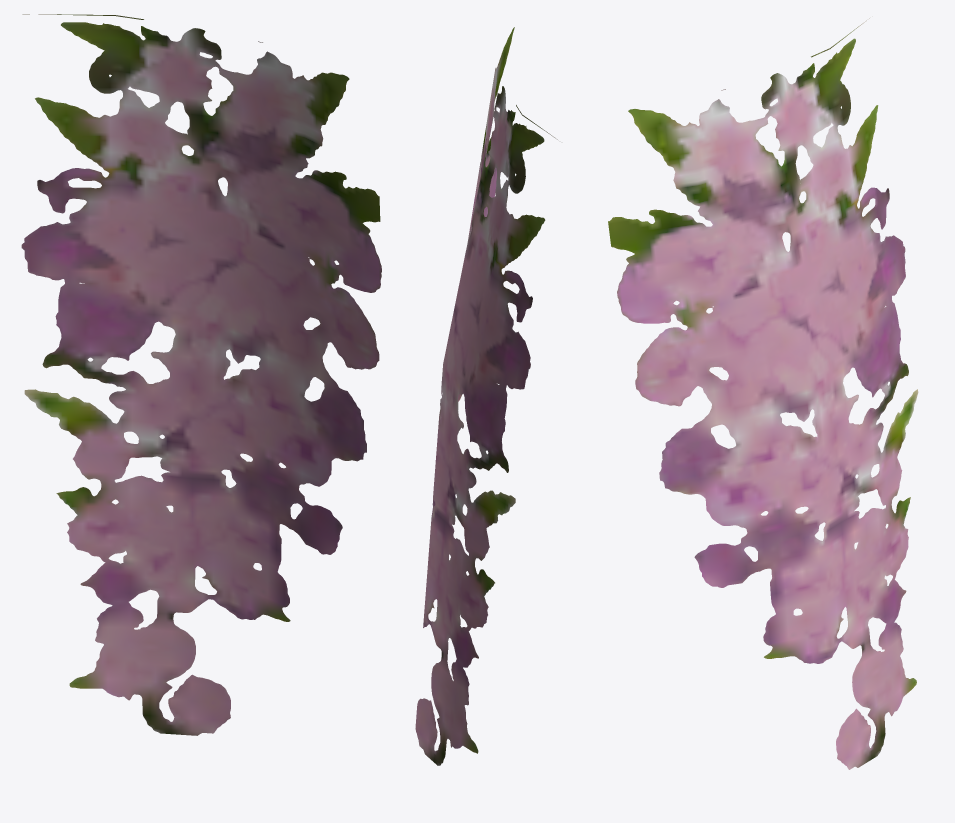
Rendered from liemo_plant_10 (12).fbx.
The picture shows the model from 3 angles, left to right: view 1: azimuth 30°, elevation 25°; view 2: azimuth 150°, elevation 25°; view 3: azimuth 270°, elevation 25°; orthographic projection. The views are drawn at different scales.
Parts seen in each view (by area): view 1: liemo_plant_10 (12); view 2: liemo_plant_10 (12); view 3: liemo_plant_10 (12).
Part boxes in pixels (x1,y1,x2,y2): liemo_plant_10 (12): [21, 14, 381, 735]; liemo_plant_10 (12): [415, 27, 557, 765]; liemo_plant_10 (12): [608, 18, 918, 769].
Size of the model in its own units: 0.3981 by 1.18 by 0.5403.
